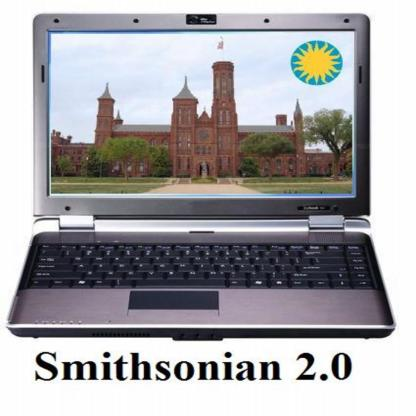board: (8, 14, 398, 341)
